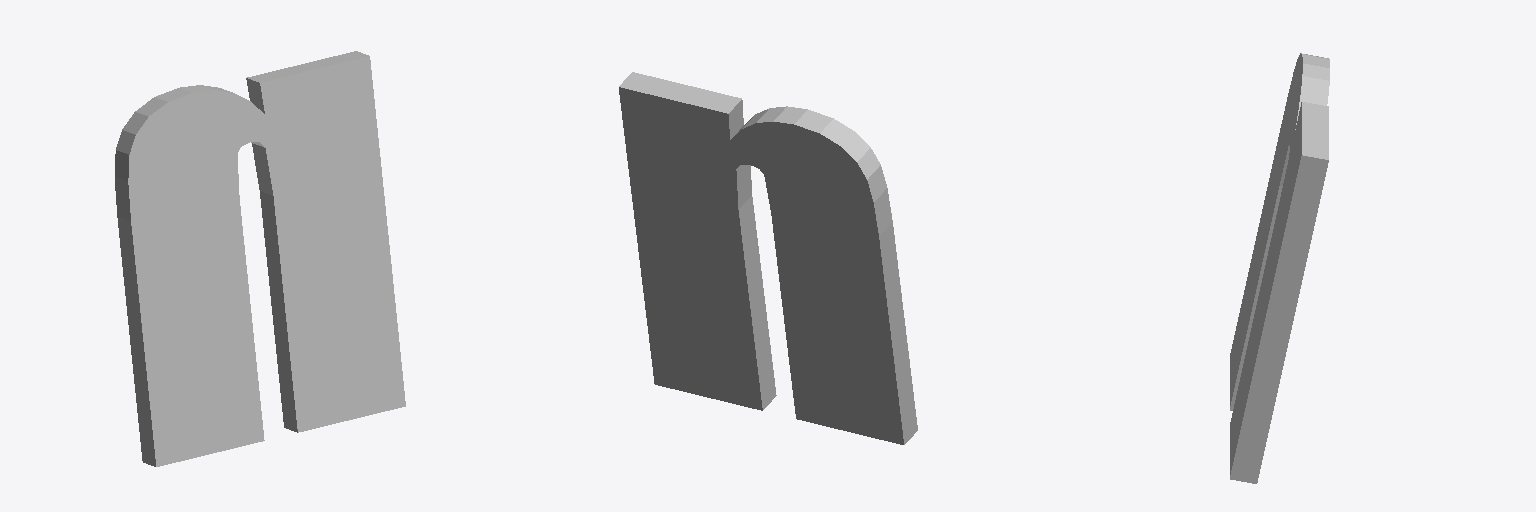
Rendered from original-7.obj.
3 renders of one model, left to right at view 1: azimuth 30°, elevation 25°; view 2: azimuth 150°, elevation 25°; view 3: azimuth 270°, elevation 25°, orthographic.
Visible parts, largest first — view 1: mesh5/mesh5-geometry#mesh5-geometry; view 2: mesh5/mesh5-geometry#mesh5-geometry; view 3: mesh5/mesh5-geometry#mesh5-geometry.
Part boxes in pixels (x1,y1,x2,y2): mesh5/mesh5-geometry#mesh5-geometry: (115,51,405,466); mesh5/mesh5-geometry#mesh5-geometry: (619,72,917,444); mesh5/mesh5-geometry#mesh5-geometry: (1230,53,1329,483).
Bounding box in the file's own units: 0.1139 × 0.146 × 0.0399.